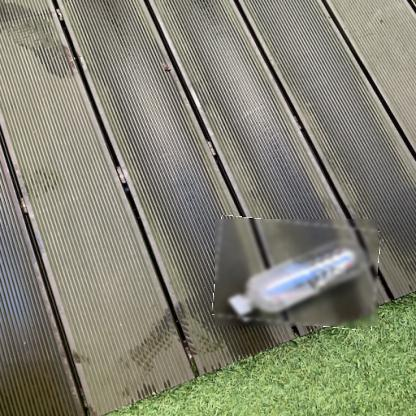plastic-bottles: (216, 220, 380, 328)
